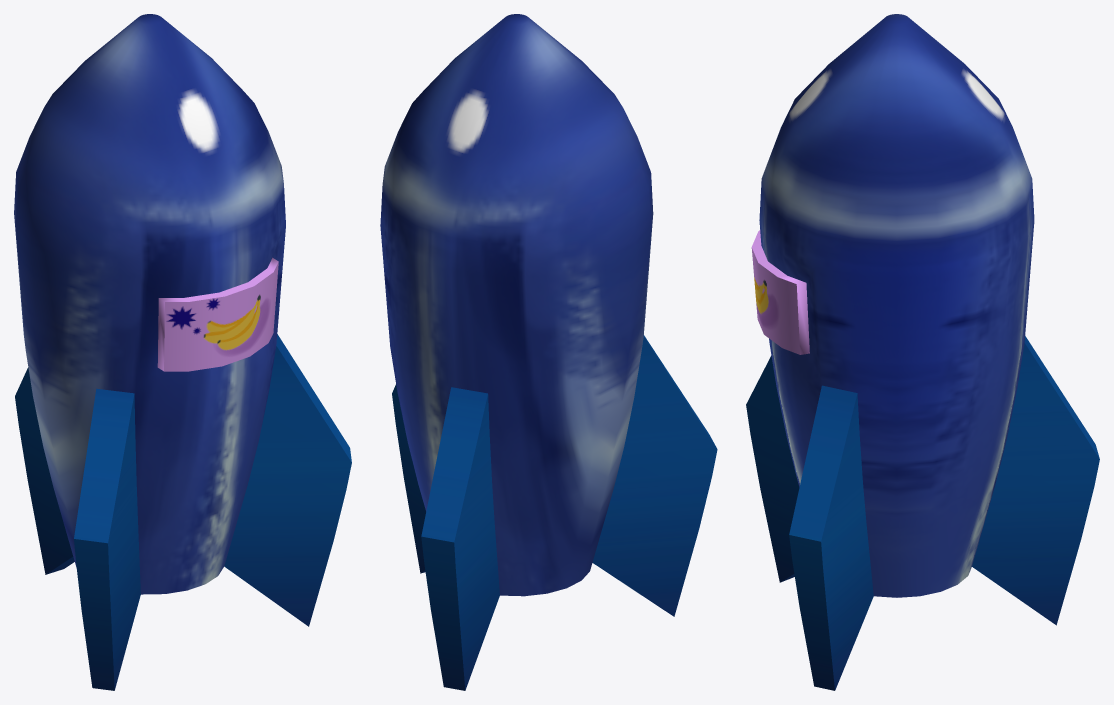
File: Spacex.fbx
3 views of the same model, side by side, from view 1: azimuth 30°, elevation 25°; view 2: azimuth 150°, elevation 25°; view 3: azimuth 270°, elevation 25° (orthographic).
Visible parts, largest first — view 1: Spacex; view 2: Spacex; view 3: Spacex.
Part boxes in pixels (box(x1,y1,x2,y2)): Spacex: box(14, 14, 351, 690); Spacex: box(380, 14, 717, 690); Spacex: box(746, 14, 1099, 690).
Bounding box in the file's own units: 4.34 × 8.37 × 4.4.
